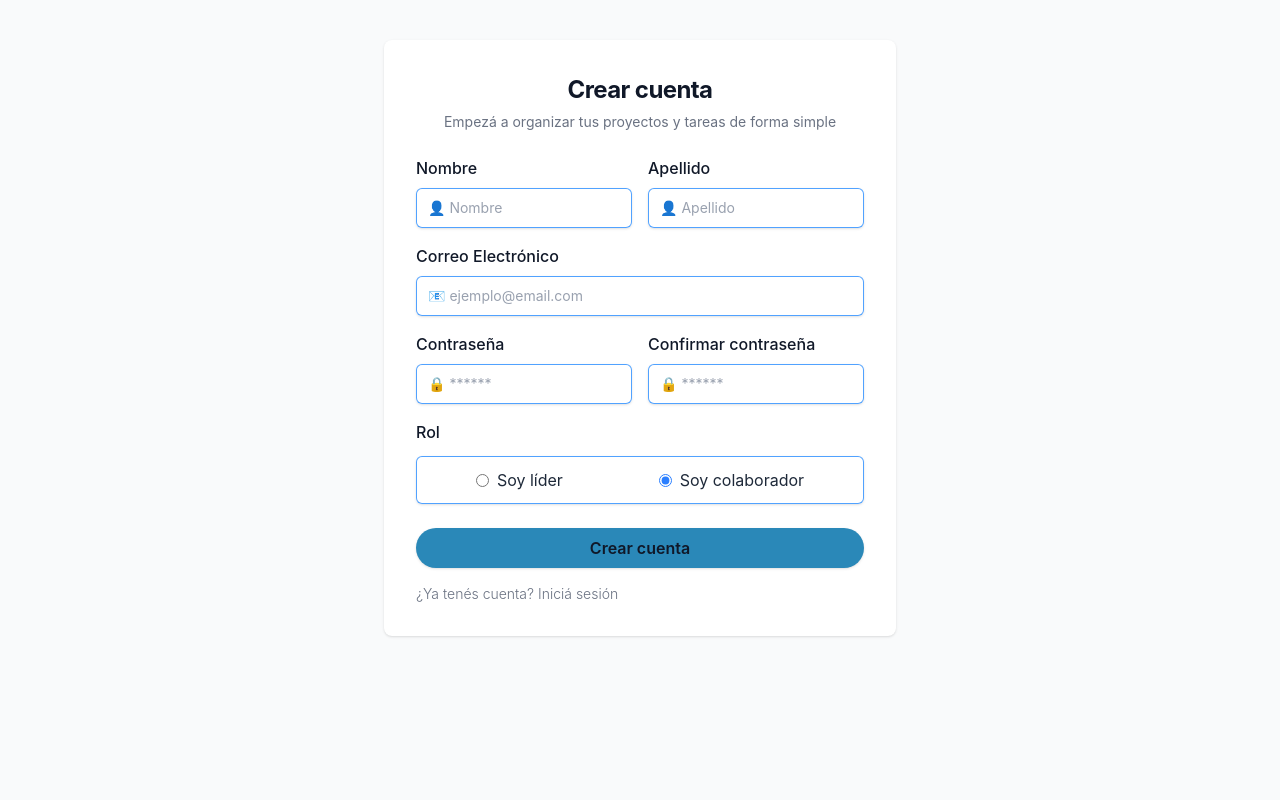
Test case: Register › muestra mensaje de éxito cuando el registro es correcto
This screenshot has width=1280, height=800.
Type "Juan" into the field with placeholder "👤 Nombre" at x=524, y=208, box [416,188,632,228]
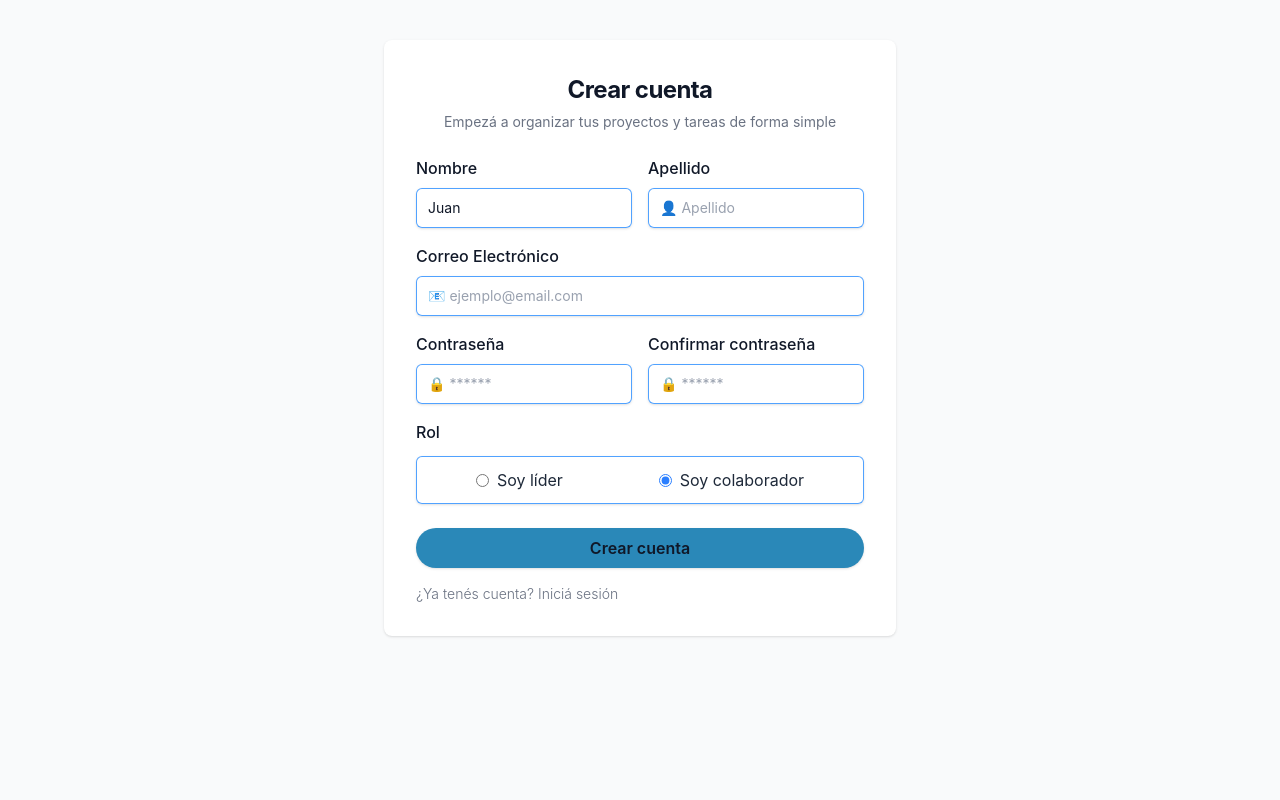
Type "Perez" into the field with placeholder "👤 Apellido" at x=756, y=208, box [648,188,864,228]
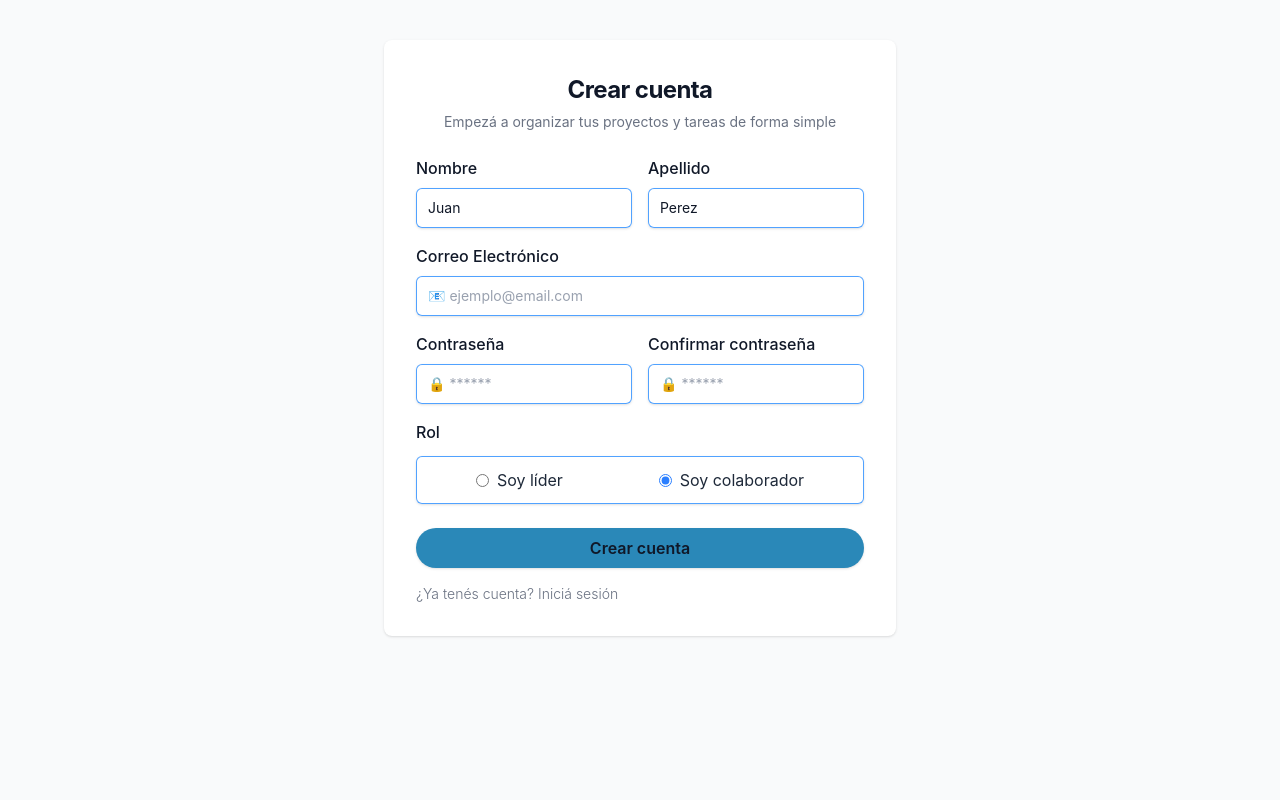
Type "juan@test.com" into the field with placeholder "📧 ejemplo@email.com" at x=640, y=296, box [416,276,864,316]
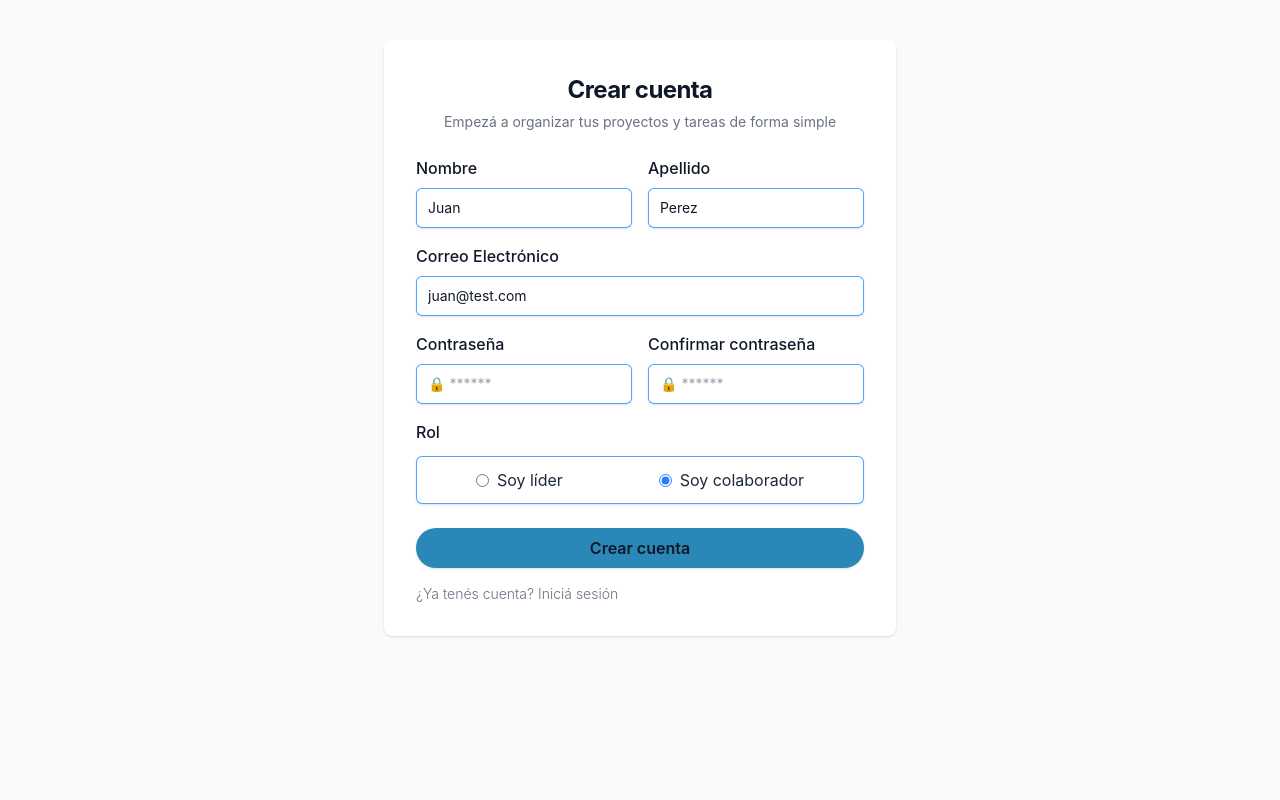
Type "12345678" into the 1st password field with placeholder "🔒 ******" at x=524, y=384, box [416,364,632,404]
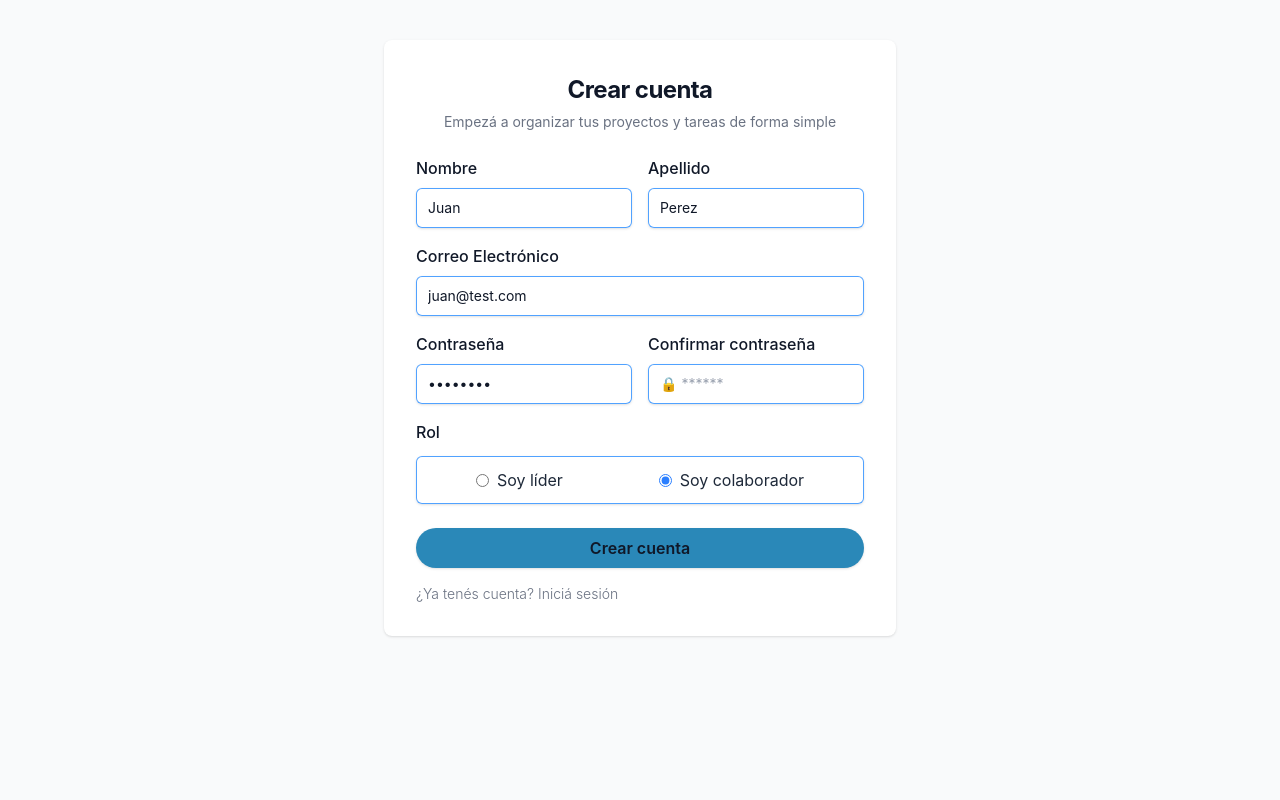
Type "12345678" into the password field with placeholder "🔒 ******" at x=756, y=384, box [648,364,864,404]
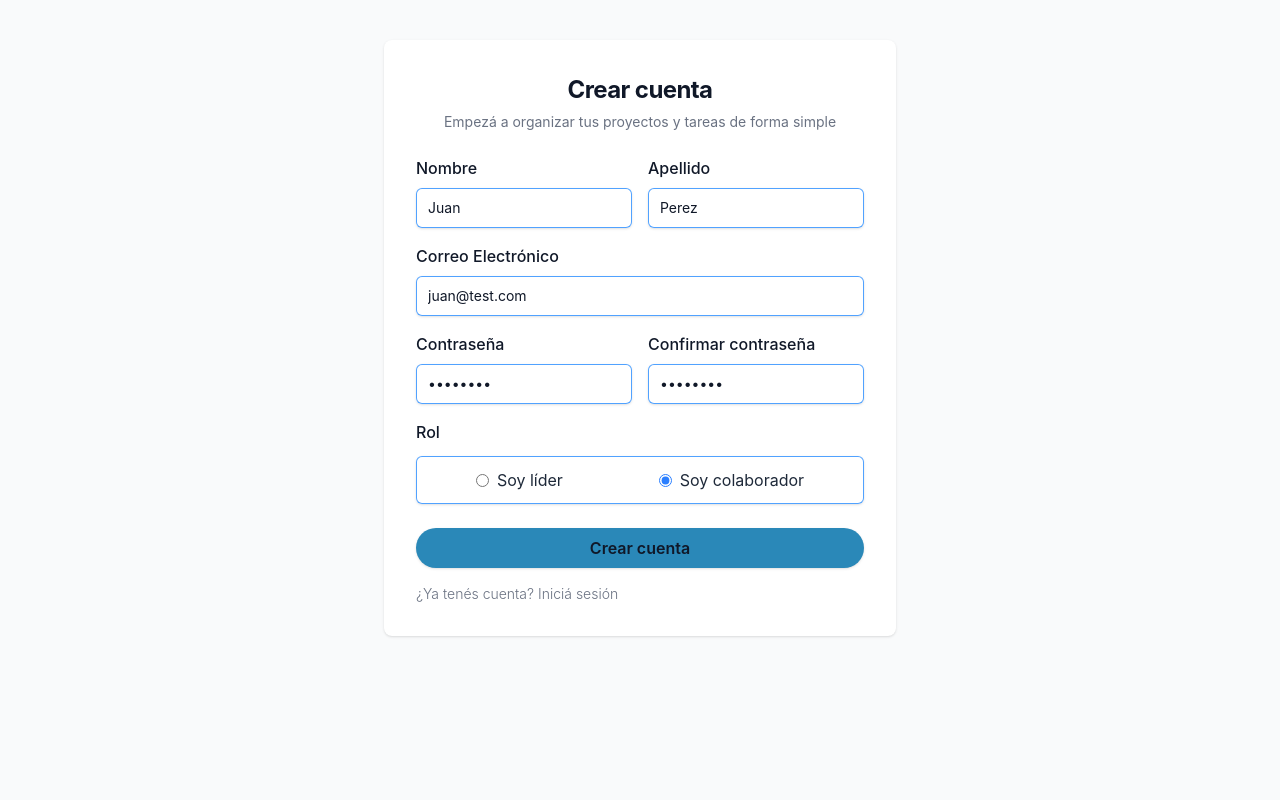
Click the button "Crear cuenta" at x=640, y=548, box [416,528,864,568]
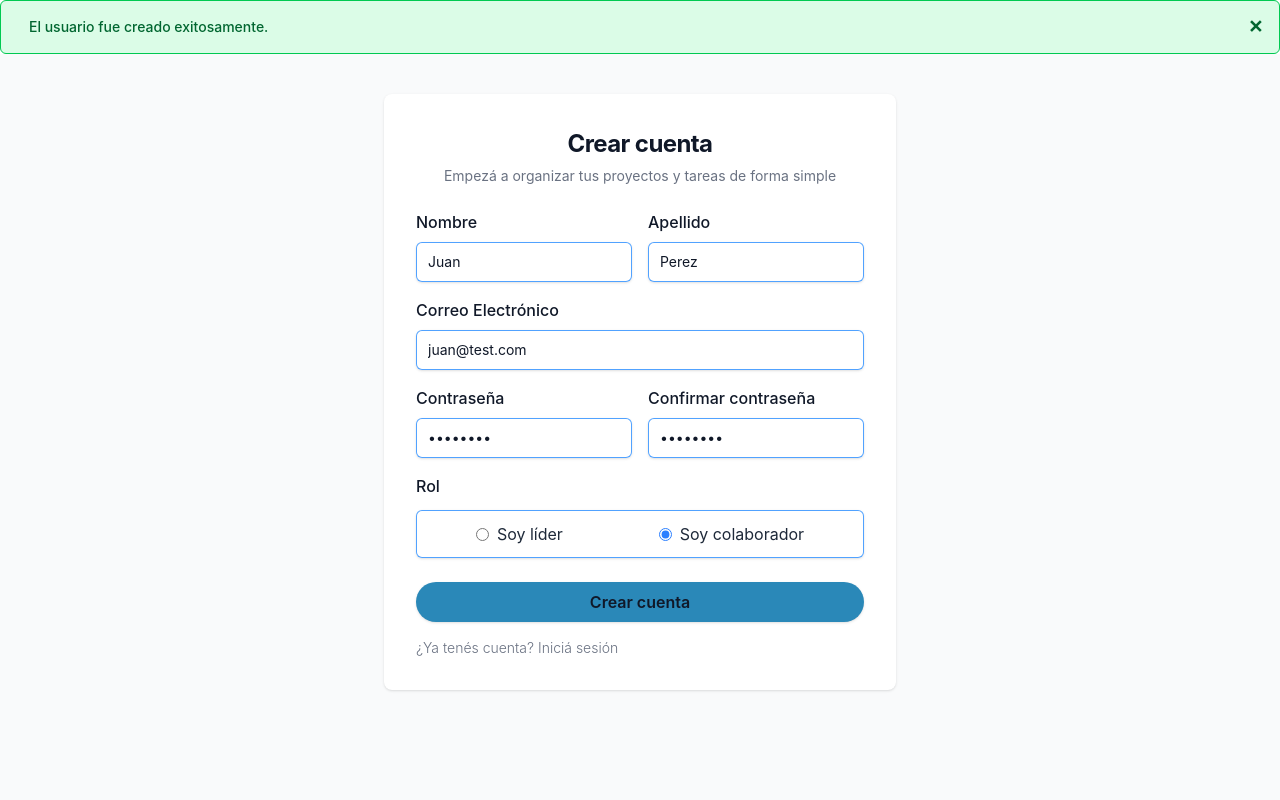
Now the text "El usuario fue creado exitosamente." is shown, box [29,17,268,37]
